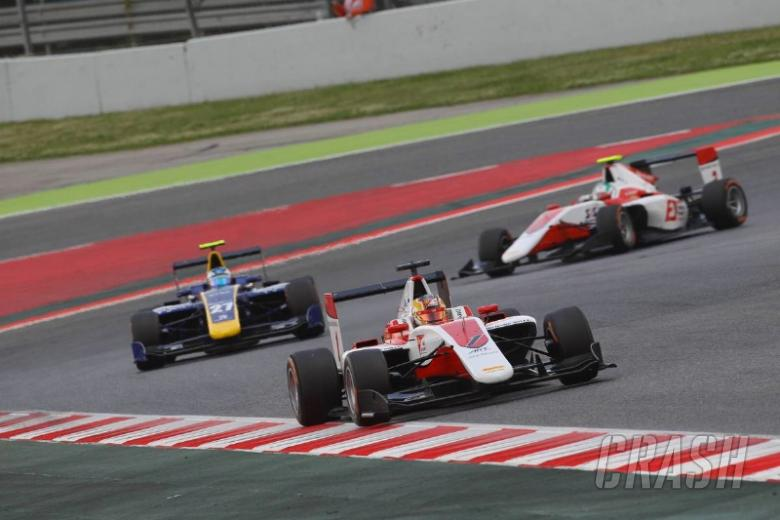race car: (285, 259, 613, 433), (447, 144, 752, 286), (129, 237, 324, 377)
